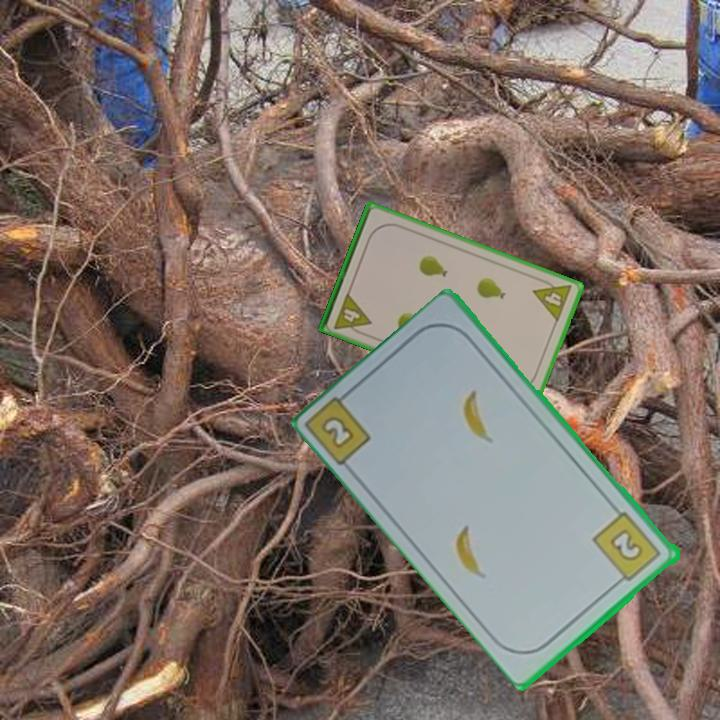2b: (589, 508, 665, 588), (318, 412, 358, 452)
4p: (529, 274, 575, 325), (330, 289, 374, 339)
